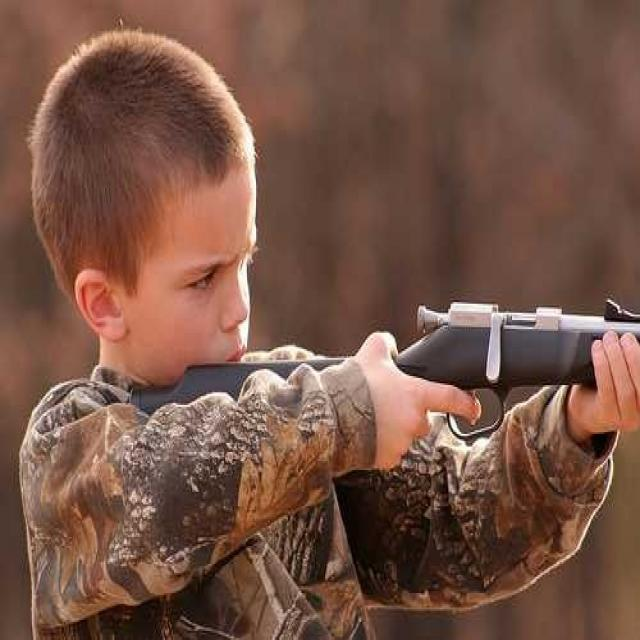weapon: (110, 274, 640, 456)
